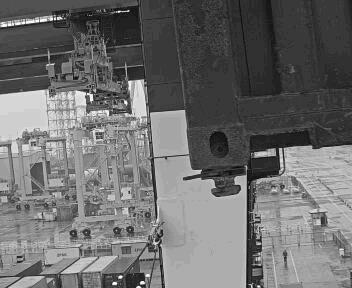twist_lock_1: (193, 162, 251, 204)
